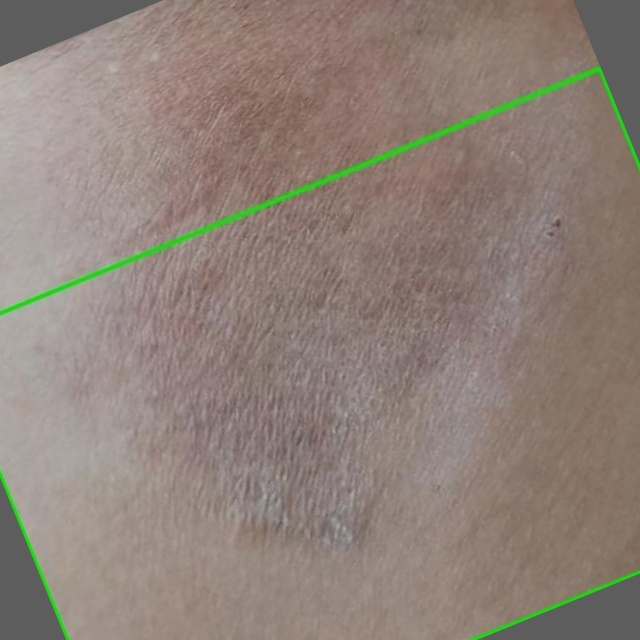Contact Dermatitis: (0, 68, 639, 639)
